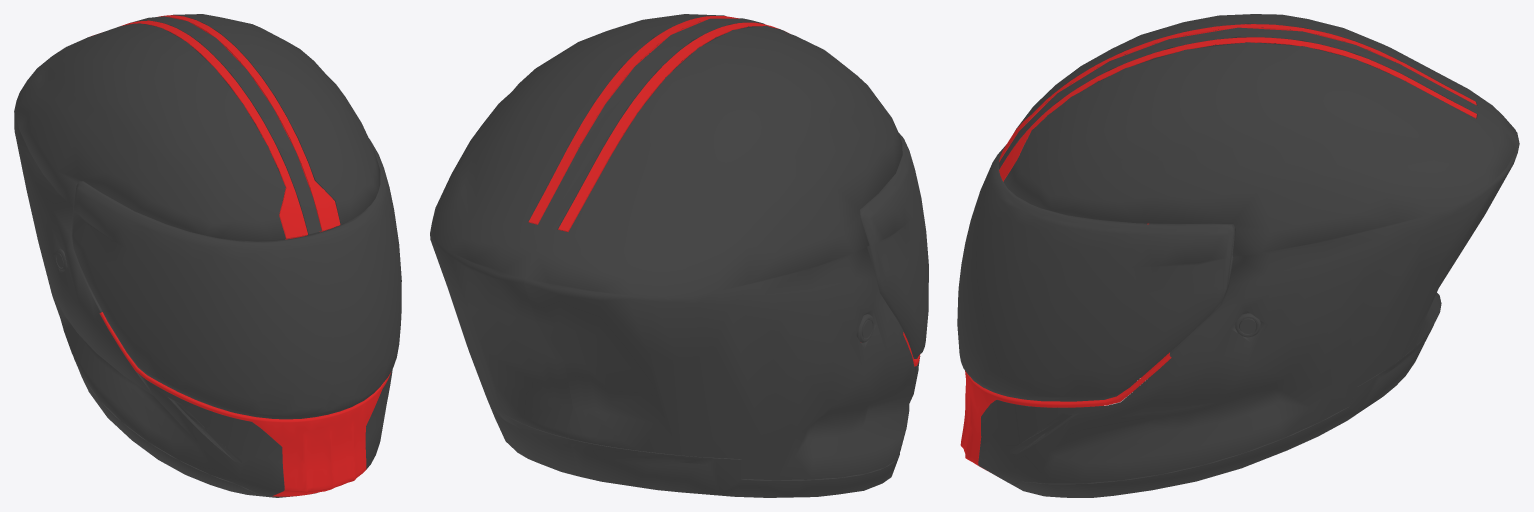
3 views of the same model, side by side, from view 1: azimuth 30°, elevation 25°; view 2: azimuth 150°, elevation 25°; view 3: azimuth 270°, elevation 25° (orthographic). The views are drawn at different scales.
Visible parts, largest first — view 1: helmet; view 2: helmet; view 3: helmet.
Part boxes in pixels (<box>): helmet: <box>14,14,401,497</box>; helmet: <box>430,14,928,497</box>; helmet: <box>957,14,1519,497</box>.
Bounding box in the file's own units: 0.2065 × 0.2536 × 0.2983.
1 material, 1 textured.
